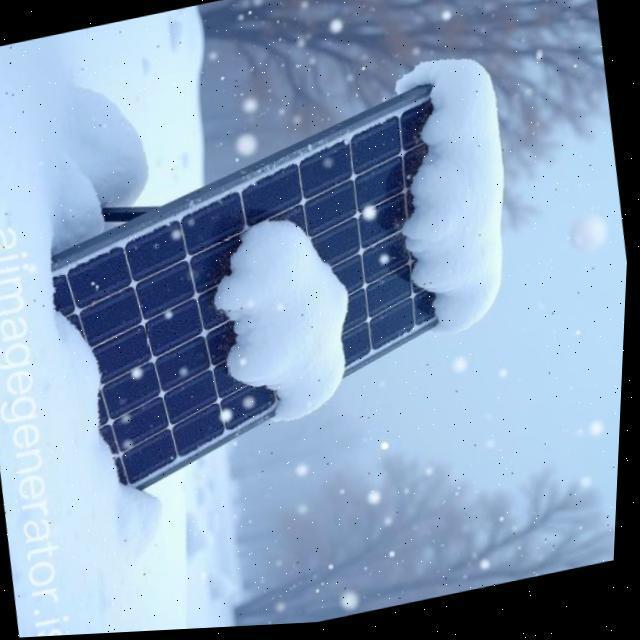Anomaly Solar Panel: (13, 53, 574, 505)
Snow: (215, 217, 355, 425), (405, 58, 506, 341), (48, 266, 144, 503)
